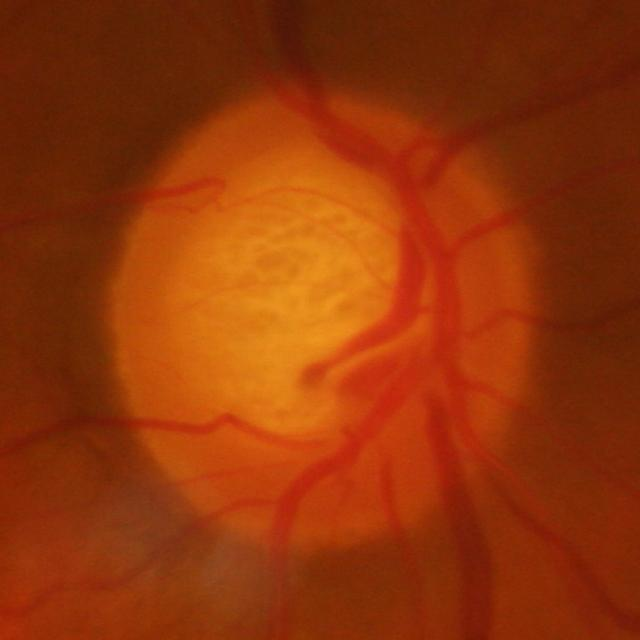OC: (165, 166, 392, 420)
OD: (100, 83, 540, 552)
